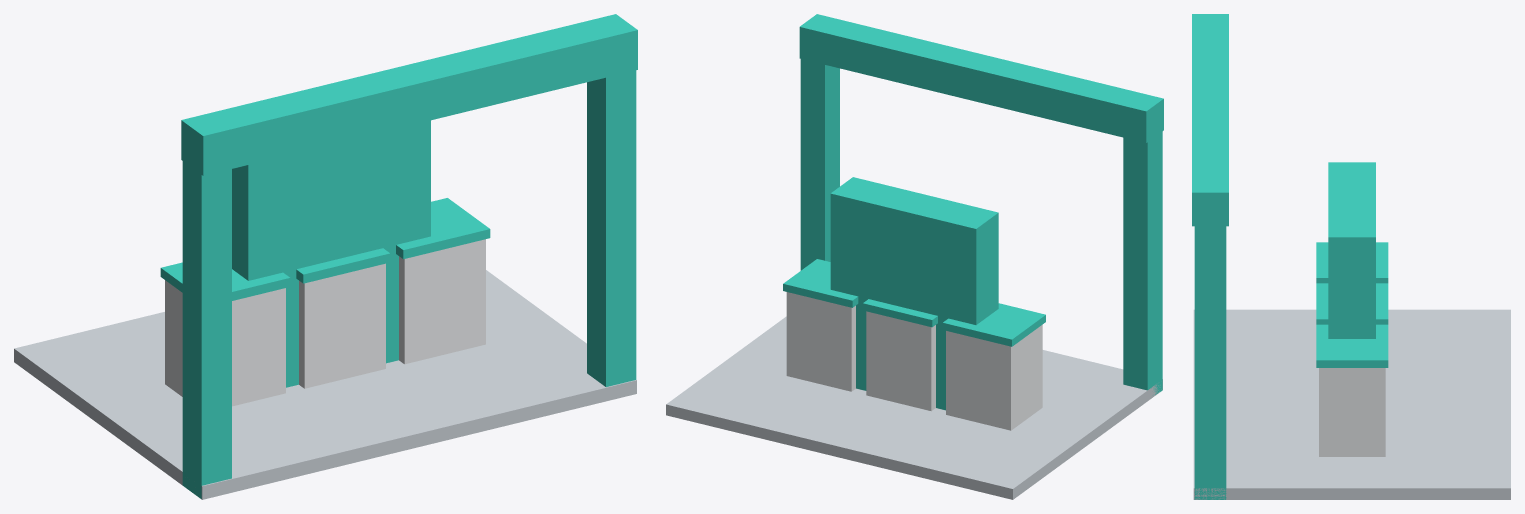
3 views of the same model, side by side, from view 1: azimuth 30°, elevation 25°; view 2: azimuth 150°, elevation 25°; view 3: azimuth 270°, elevation 25° (orthographic). The views are drawn at different scales.
Parts seen in each view (by area): view 1: Exhibition Booth Concept; view 2: Exhibition Booth Concept; view 3: Exhibition Booth Concept.
Boxes of the visible parts, left/top/right/bottom form: Exhibition Booth Concept: left=14, top=14, right=637, bottom=499; Exhibition Booth Concept: left=666, top=14, right=1163, bottom=499; Exhibition Booth Concept: left=1192, top=14, right=1510, bottom=499.
Size of the model in its own units: 4 by 3.2 by 3.01.
